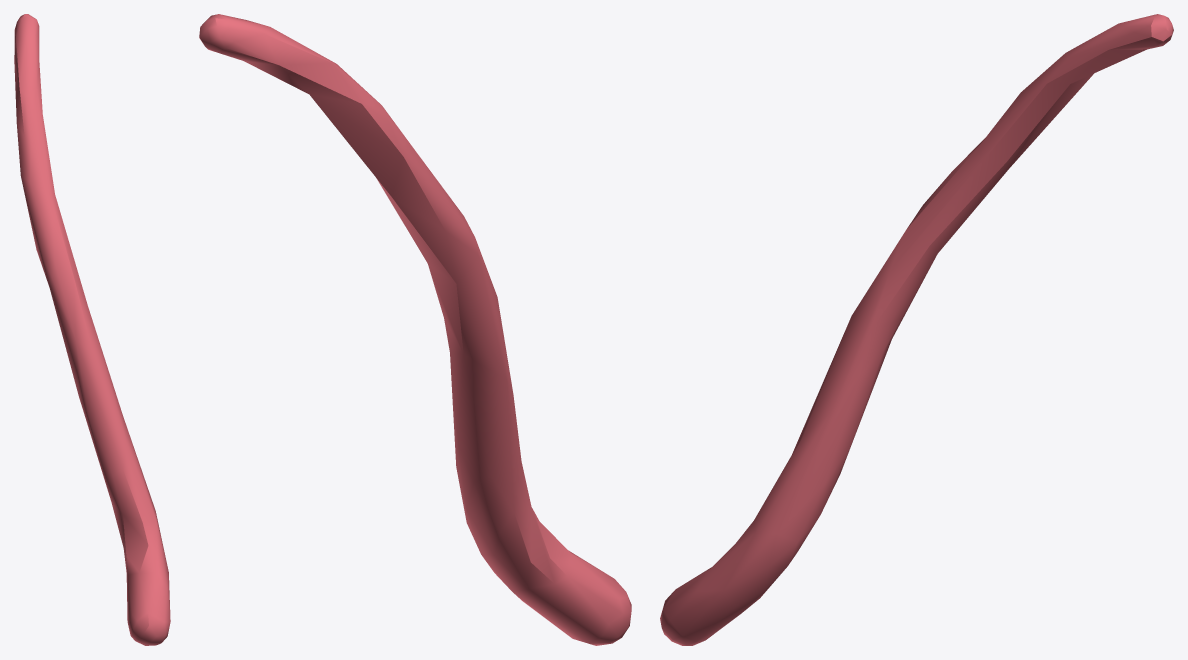
The model's file is fma86341_fj2052.glb.
3 renders of one model, left to right at view 1: azimuth 30°, elevation 25°; view 2: azimuth 150°, elevation 25°; view 3: azimuth 270°, elevation 25°, orthographic. The views are drawn at different scales.
Parts seen in each view (by area): view 1: FMA86341_FJ2052; view 2: FMA86341_FJ2052; view 3: FMA86341_FJ2052.
Boxes of the visible parts, <box> form: FMA86341_FJ2052: <box>14,14,170,645</box>; FMA86341_FJ2052: <box>199,14,631,645</box>; FMA86341_FJ2052: <box>660,14,1173,645</box>.
Bounding box in the file's own units: 0.00706 × 0.0415 × 0.0292.
